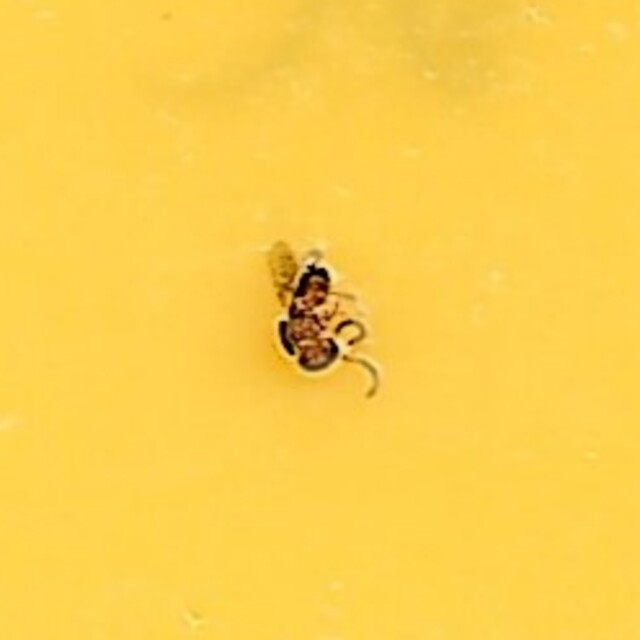Hymenoptera: (258, 242, 382, 398)
